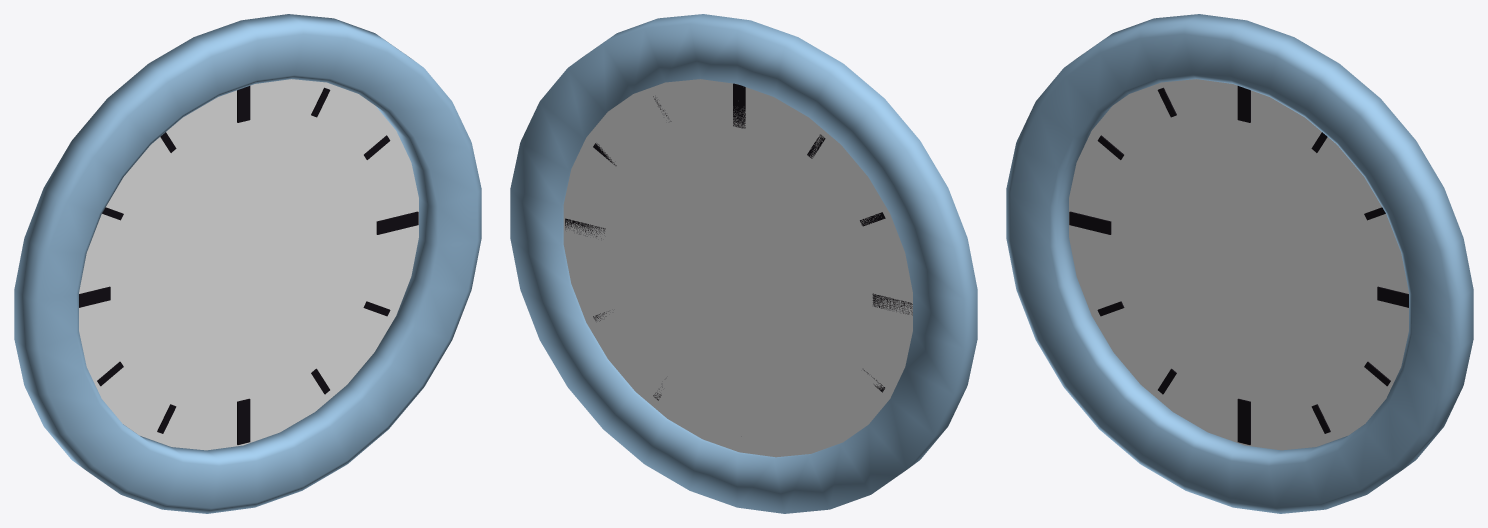
File: Clock.fbx
The picture shows the model from 3 angles, left to right: view 1: azimuth 30°, elevation 25°; view 2: azimuth 150°, elevation 25°; view 3: azimuth 330°, elevation 25°; orthographic projection.
Visible parts, largest first — view 1: Clock; view 2: Clock; view 3: Clock.
Boxes of the visible parts, bbox=[...] form: Clock: bbox=[14, 14, 481, 513]; Clock: bbox=[510, 14, 977, 513]; Clock: bbox=[1006, 14, 1473, 513].
Size of the model in its own units: 0.5845 by 0.5877 by 0.0373.
